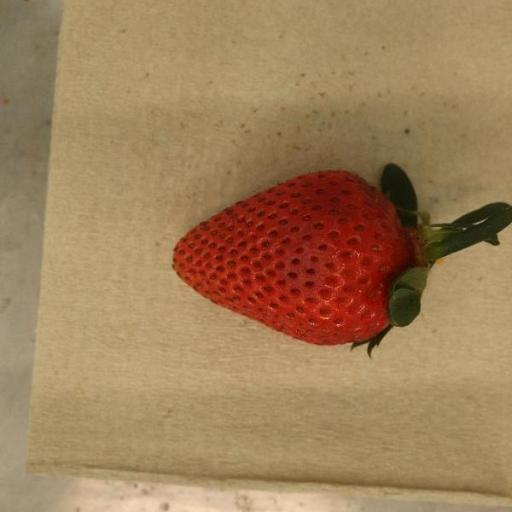Strawberry: (172, 164, 512, 346)
